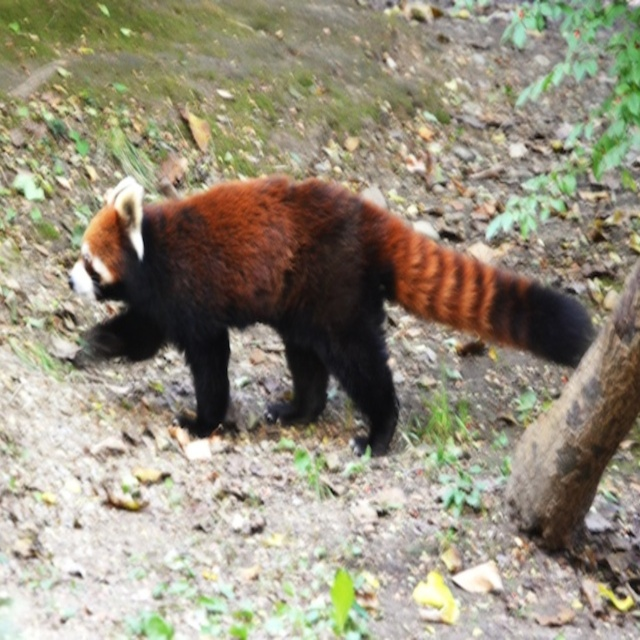Red panda: (72, 177, 597, 460)
